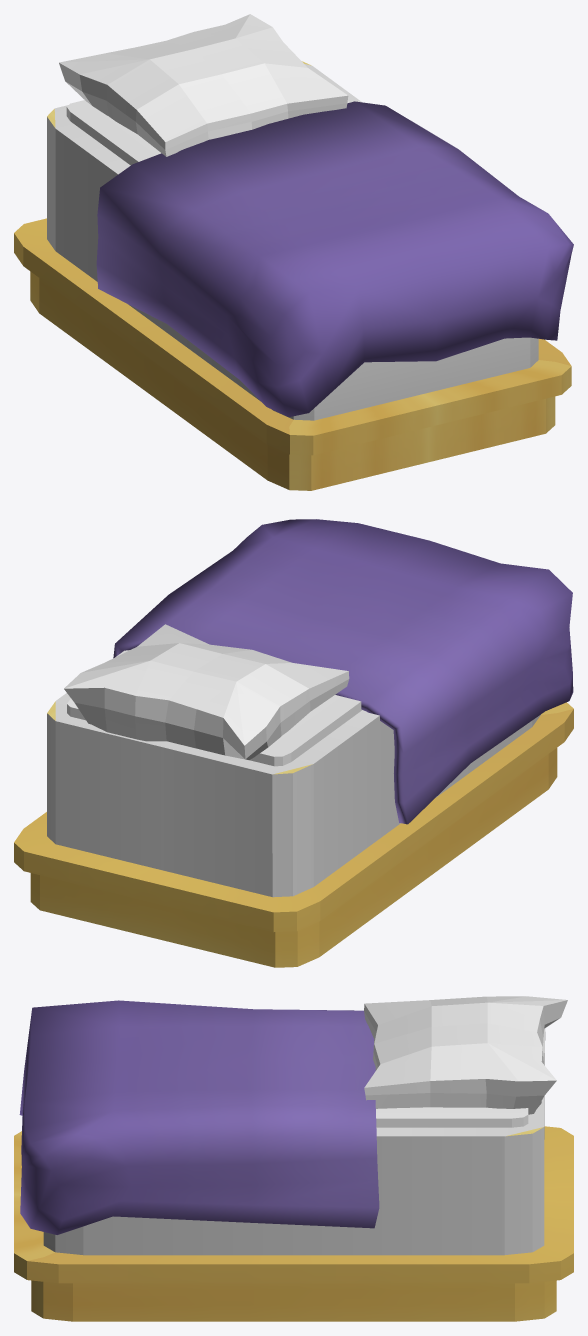
File: sp_bed_standar_a.fbx
The picture shows the model from 3 angles, top to bottom: view 1: azimuth 30°, elevation 25°; view 2: azimuth 150°, elevation 25°; view 3: azimuth 270°, elevation 25°; orthographic projection. The views are drawn at different scales.
Parts seen in each view (by area): view 1: sp_bed_standar_a; view 2: sp_bed_standar_a; view 3: sp_bed_standar_a.
Boxes of the visible parts, box(x1,y1,x2,y2) form: sp_bed_standar_a: box(14, 14, 573, 490); sp_bed_standar_a: box(14, 519, 573, 967); sp_bed_standar_a: box(14, 996, 573, 1321).
Size of the model in its own units: 139 by 103 by 224.
